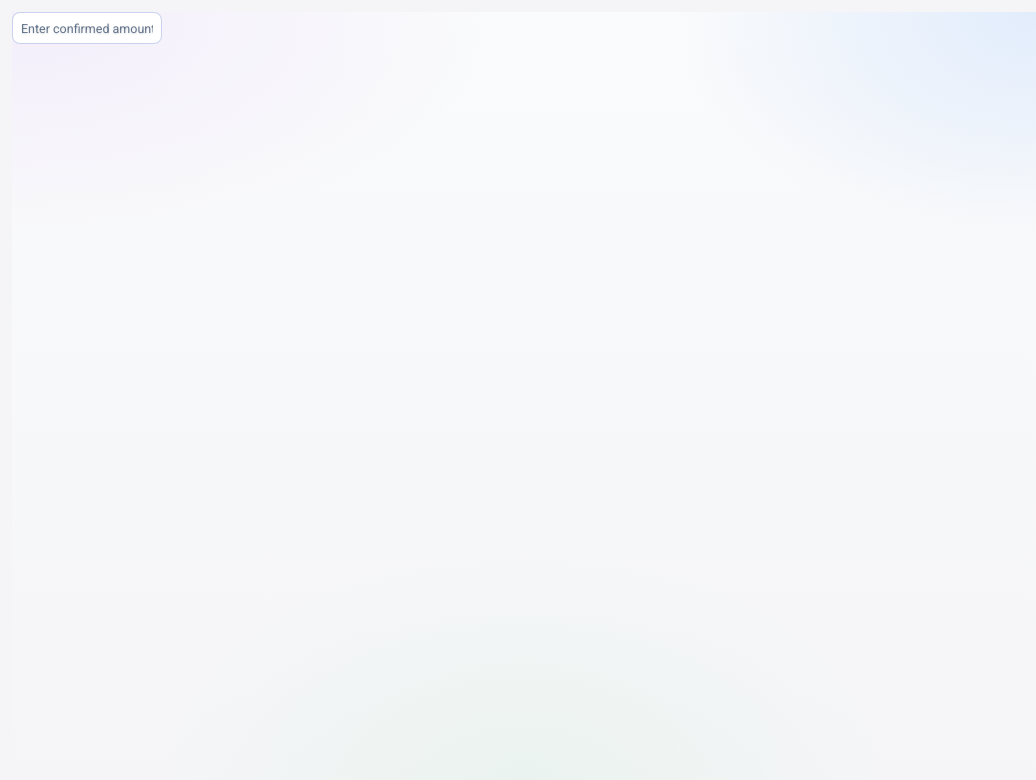
Test case: the confirmed-amount field component (no longer in the Tracker row; kept, with its own rules) › a valid amount is sent to the server in canonical form once Save is pressed, then shown as saved
Type "₹25,450.50" into the field named "Collection Amount Confirmation for Alpha Traders" at point(87, 28), box [12, 12, 162, 44]
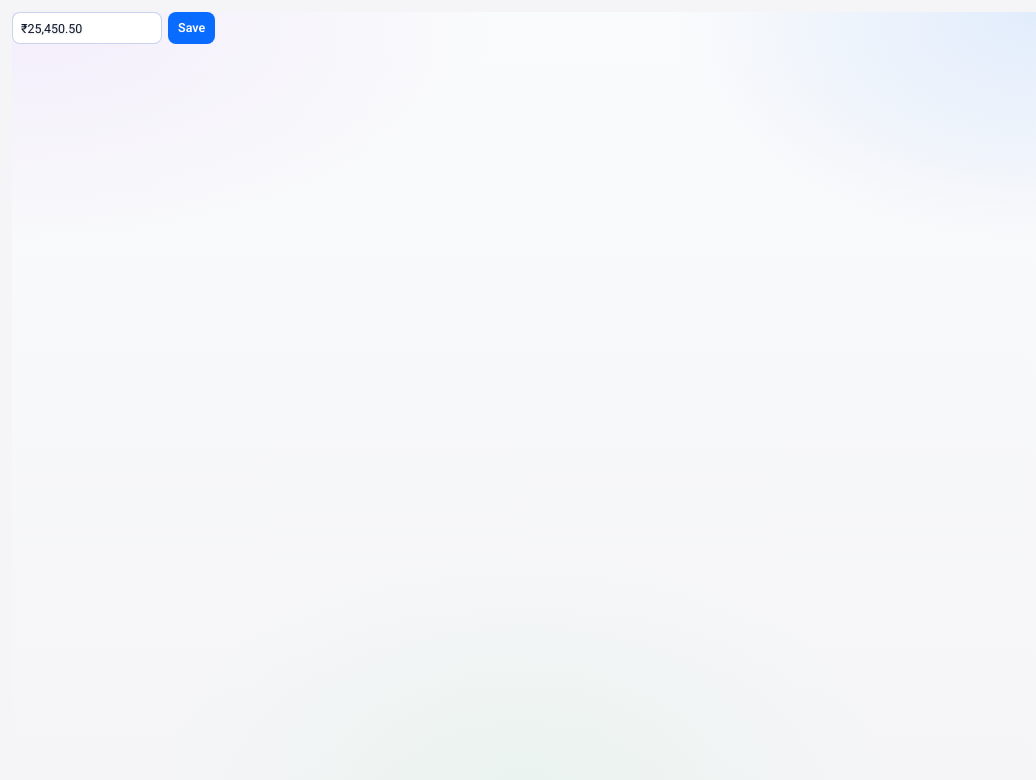
Now the button with aria-label "Save confirmed amount for Alpha Traders" is shown
Click the button with aria-label "Save confirmed amount for Alpha Traders" at point(192, 28), box [168, 12, 215, 44]
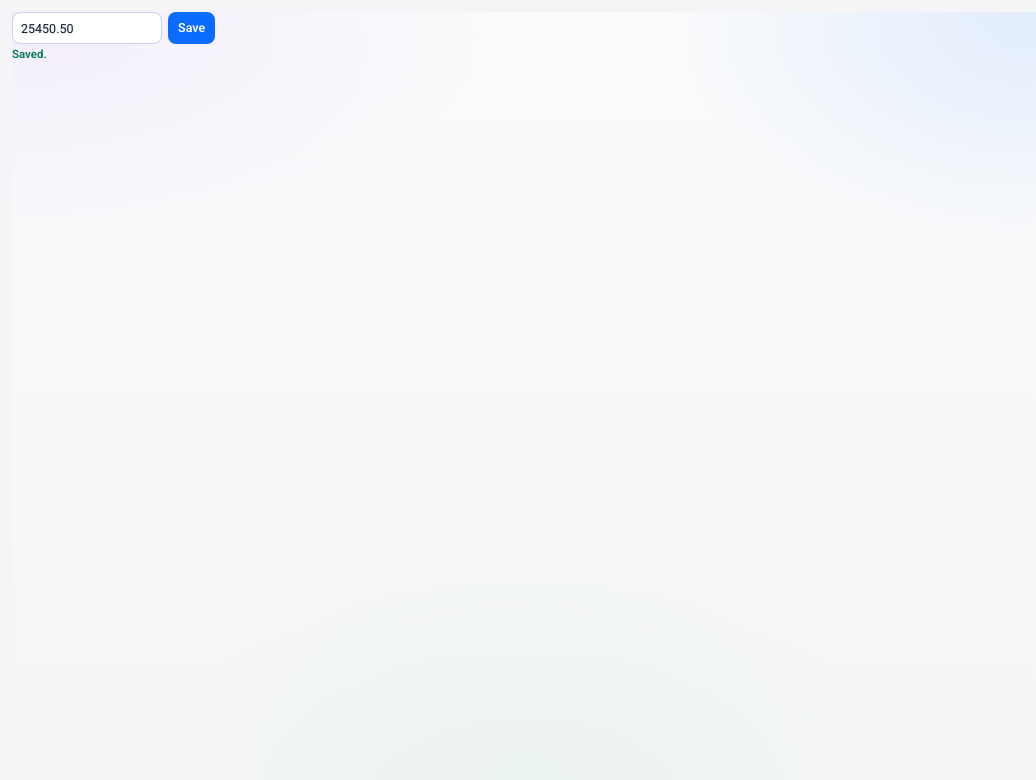
Now the message reads "Saved.", box [12, 47, 47, 61]
Now the field named "Collection Amount Confirmation for Alpha Traders" holds "25450.50", box [12, 12, 162, 44]
